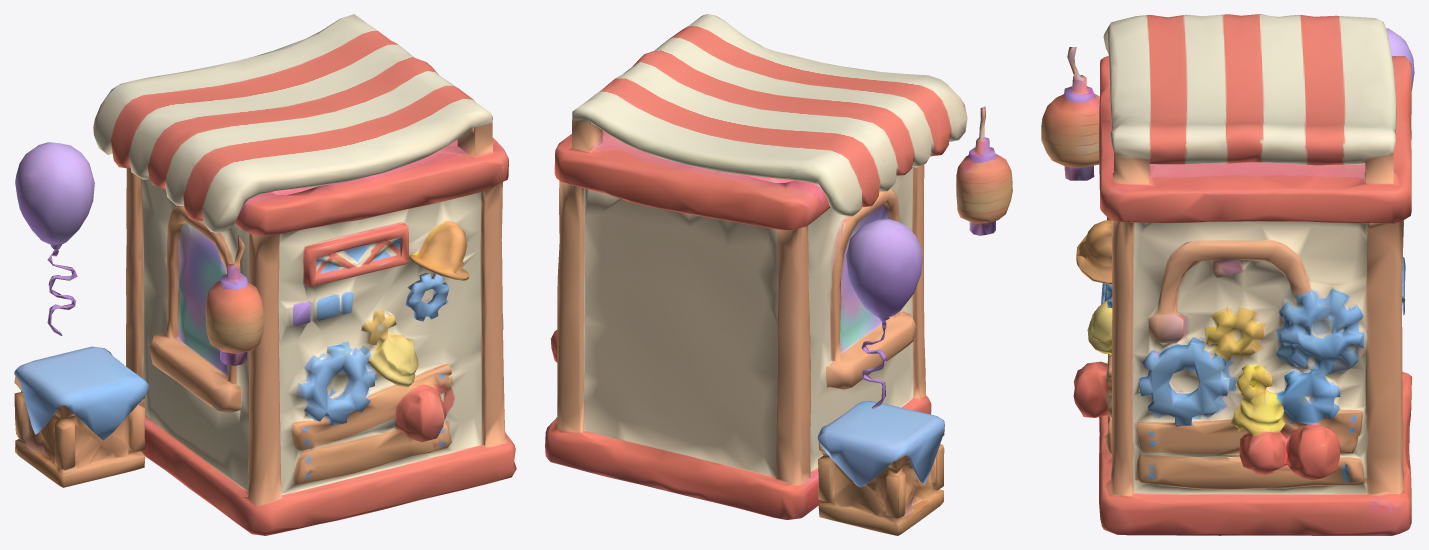
The model's file is balloon_market.glb.
3 views of the same model, side by side, from view 1: azimuth 30°, elevation 25°; view 2: azimuth 150°, elevation 25°; view 3: azimuth 270°, elevation 25° (orthographic). The views are drawn at different scales.
Parts seen in each view (by area): view 1: Mesh_0; view 2: Mesh_0; view 3: Mesh_0.
Part boxes in pixels (box(x1,y1,x2,y2)): Mesh_0: box(14, 14, 516, 535); Mesh_0: box(545, 14, 1012, 535); Mesh_0: box(1041, 14, 1414, 535).
Size of the model in its own units: 1.91 by 1.69 by 1.47.
1 material, 1 textured.
